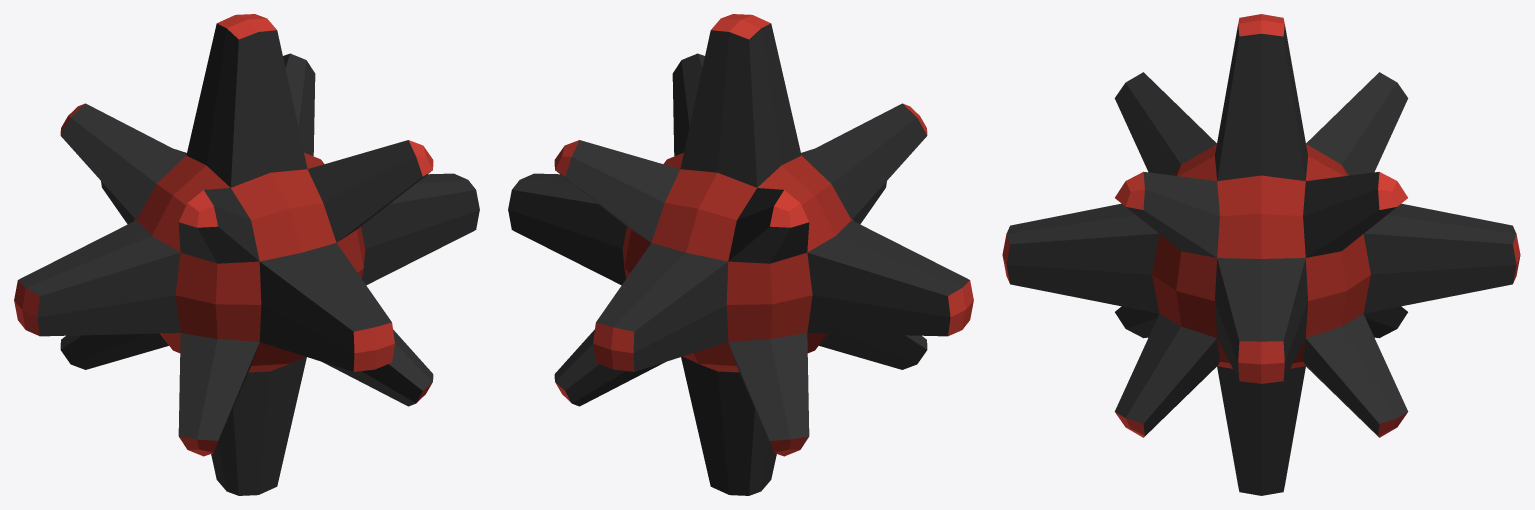
Rendered from SpaceBomb.fbx.
The picture shows the model from 3 angles, left to right: view 1: azimuth 30°, elevation 25°; view 2: azimuth 150°, elevation 25°; view 3: azimuth 270°, elevation 25°; orthographic projection.
Parts seen in each view (by area): view 1: Куб; view 2: Куб; view 3: Куб.
Part boxes in pixels (x1,y1,x2,y2): Куб: [14, 14, 479, 495]; Куб: [508, 14, 973, 495]; Куб: [1002, 14, 1520, 495].
Bounding box in the file's own units: 370 × 370 × 370.
Materials: 1 (1 with a texture image).
